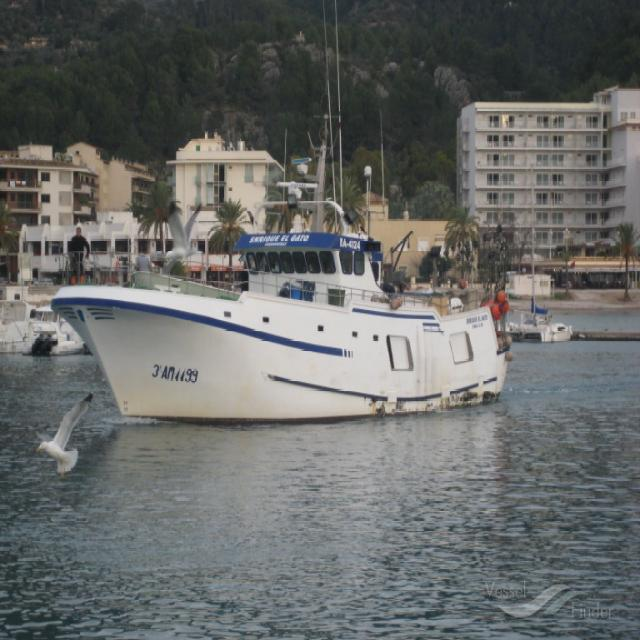Fishing Vessel: (46, 222, 510, 415)
